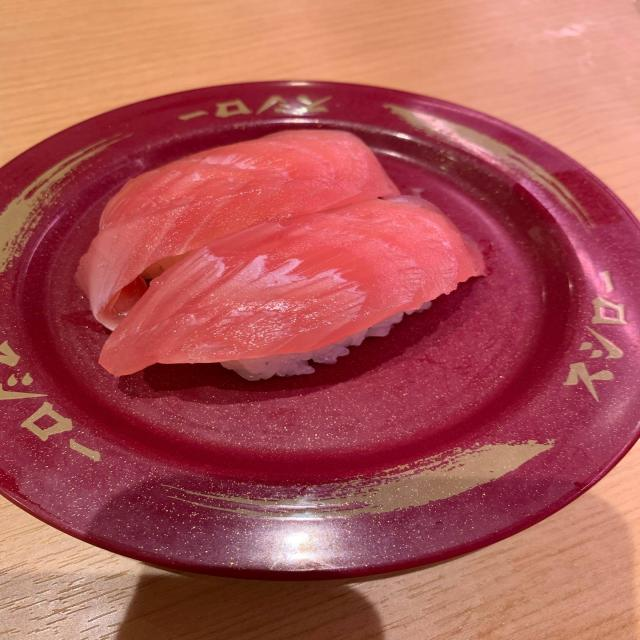janred: (32, 97, 632, 548)
